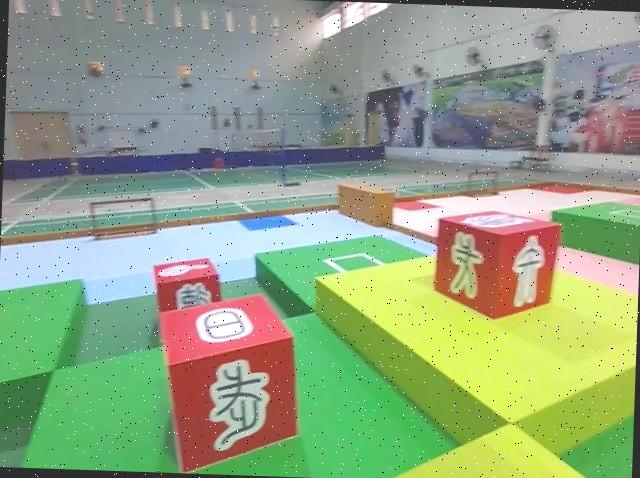R2 Fake: (154, 292, 302, 474), (431, 209, 559, 321), (149, 258, 221, 337)
